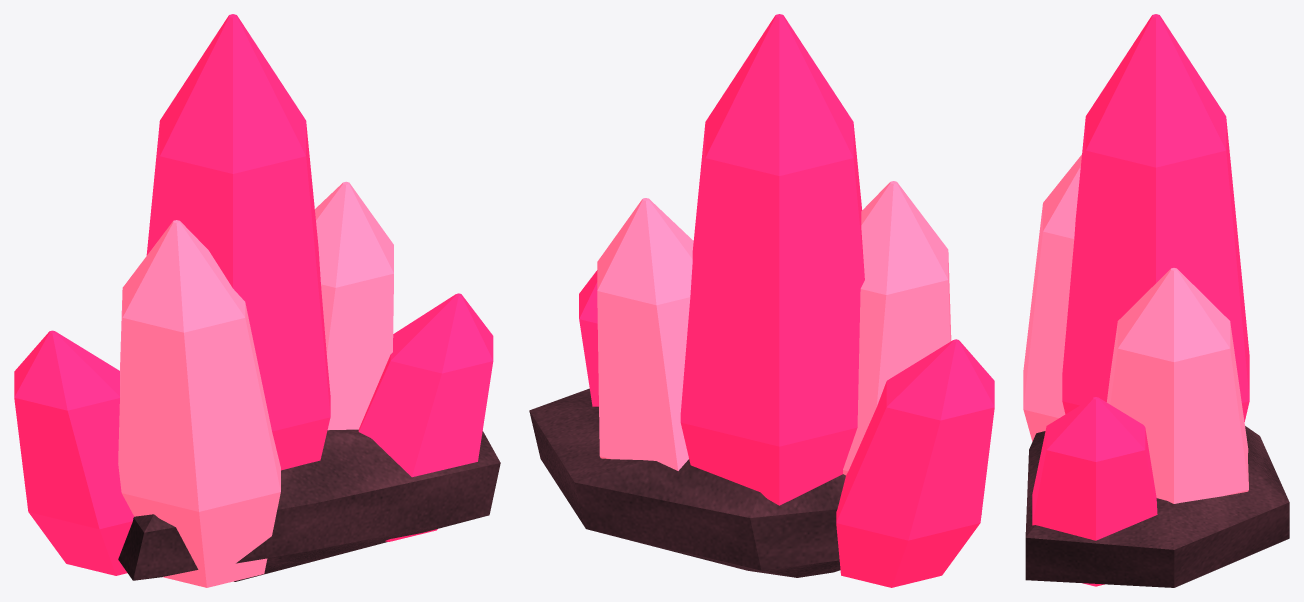
File: ruby.glb
3 views of the same model, side by side, from view 1: azimuth 30°, elevation 25°; view 2: azimuth 150°, elevation 25°; view 3: azimuth 270°, elevation 25° (orthographic). The views are drawn at different scales.
Visible parts, largest first — view 1: ruby · Hot ruby, ruby · Ruby facets, ruby · Red-veined basalt; view 2: ruby · Hot ruby, ruby · Ruby facets, ruby · Red-veined basalt; view 3: ruby · Hot ruby, ruby · Ruby facets, ruby · Red-veined basalt.
Part boxes in pixels (bbox=[...]): ruby · Hot ruby: bbox=[14, 14, 493, 575]; ruby · Ruby facets: bbox=[118, 181, 393, 587]; ruby · Red-veined basalt: bbox=[118, 429, 500, 581]; ruby · Hot ruby: bbox=[579, 14, 994, 587]; ruby · Ruby facets: bbox=[597, 181, 951, 475]; ruby · Red-veined basalt: bbox=[529, 388, 845, 577]; ruby · Hot ruby: bbox=[1032, 14, 1249, 586]; ruby · Ruby facets: bbox=[1023, 154, 1248, 503]; ruby · Red-veined basalt: bbox=[1025, 426, 1289, 587].
Bounding box in the file's own units: 1.67 × 1.93 × 0.8865.
Materials: 3 (1 with a texture image).
